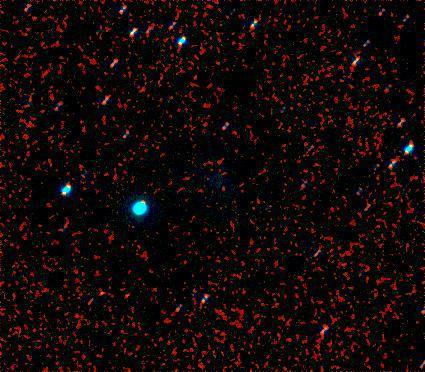star: (81, 285, 111, 315)
